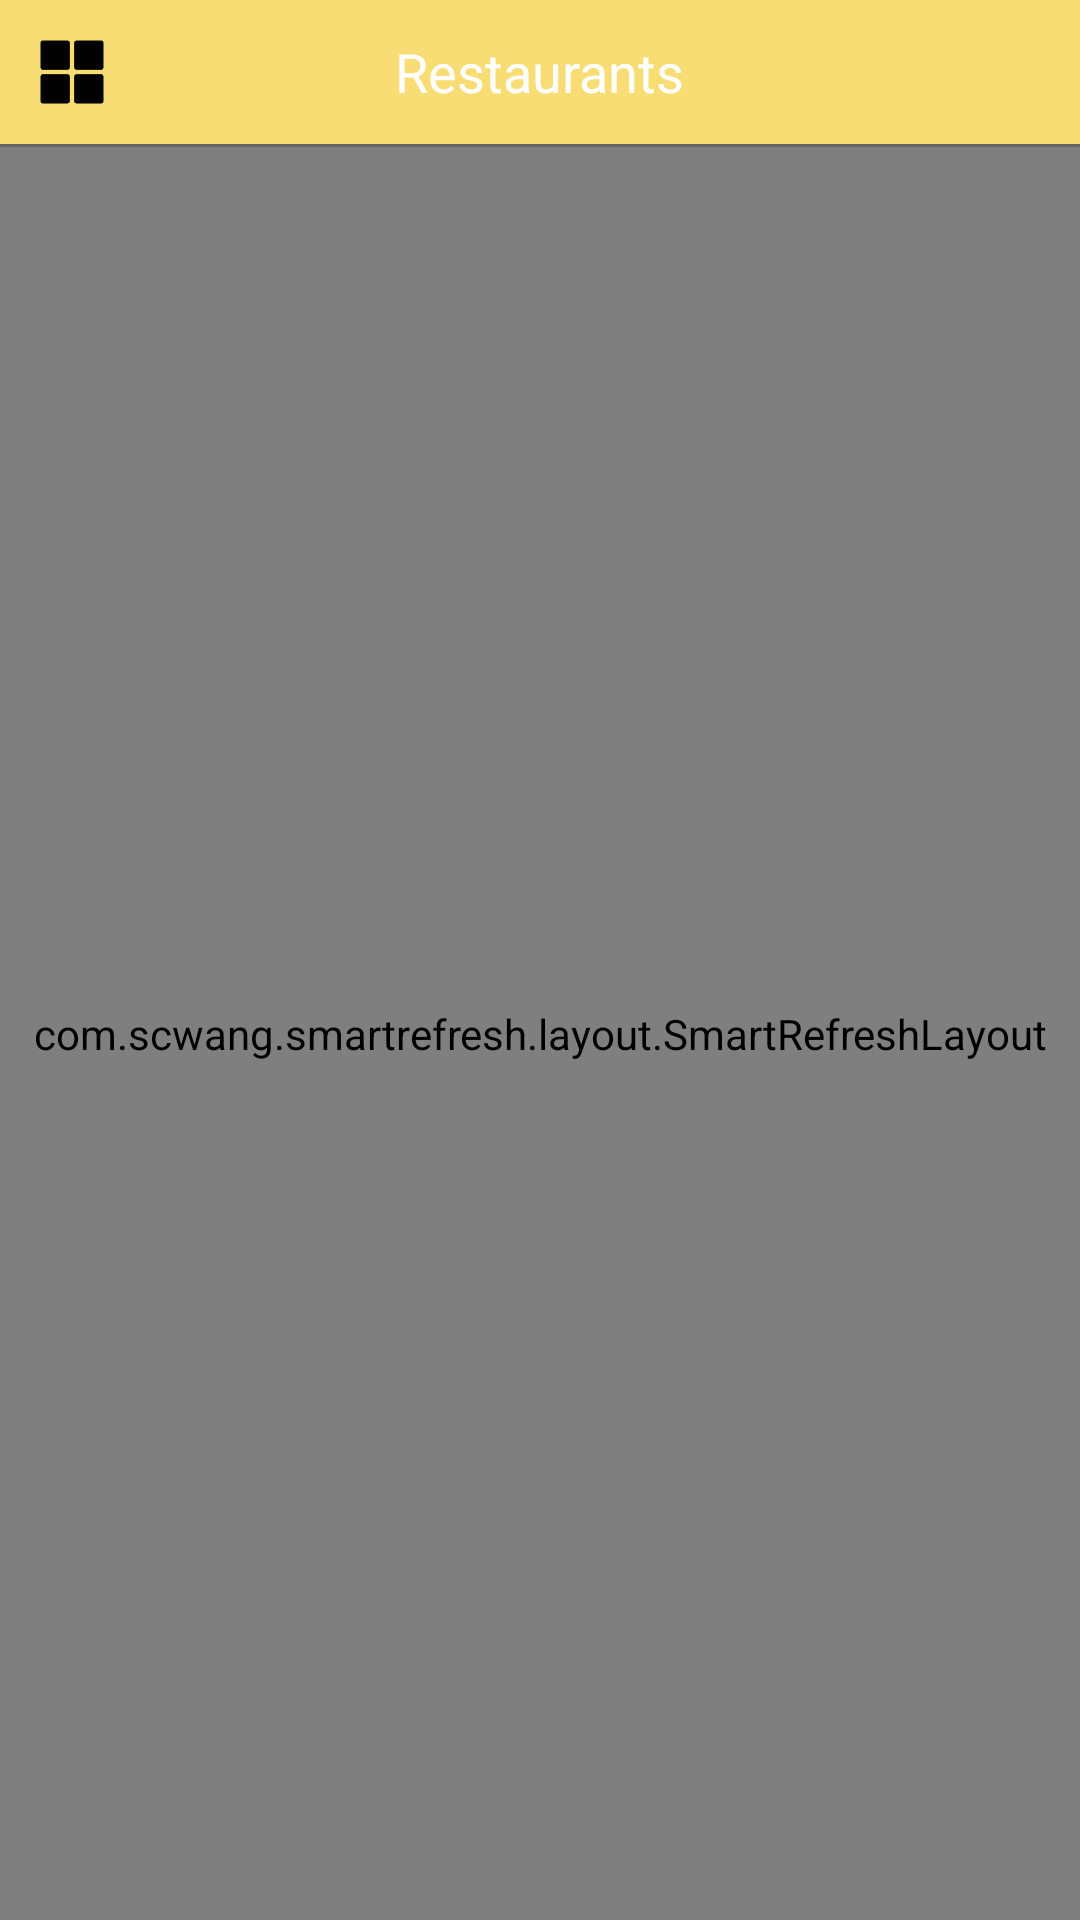

Named icons in this screenshot (1080px x 1920px) and their bounding boxes, (x1, y1, x2, y2):
liebiao: (40, 40, 104, 104)
